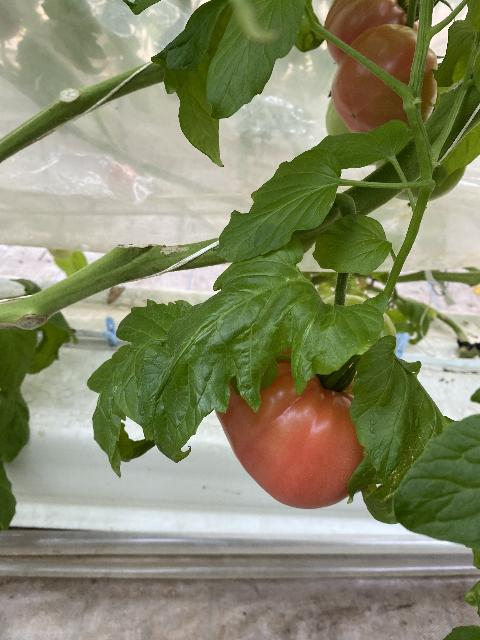b_half_ripened: (213, 346, 366, 509), (331, 24, 438, 138), (325, 0, 419, 66)
